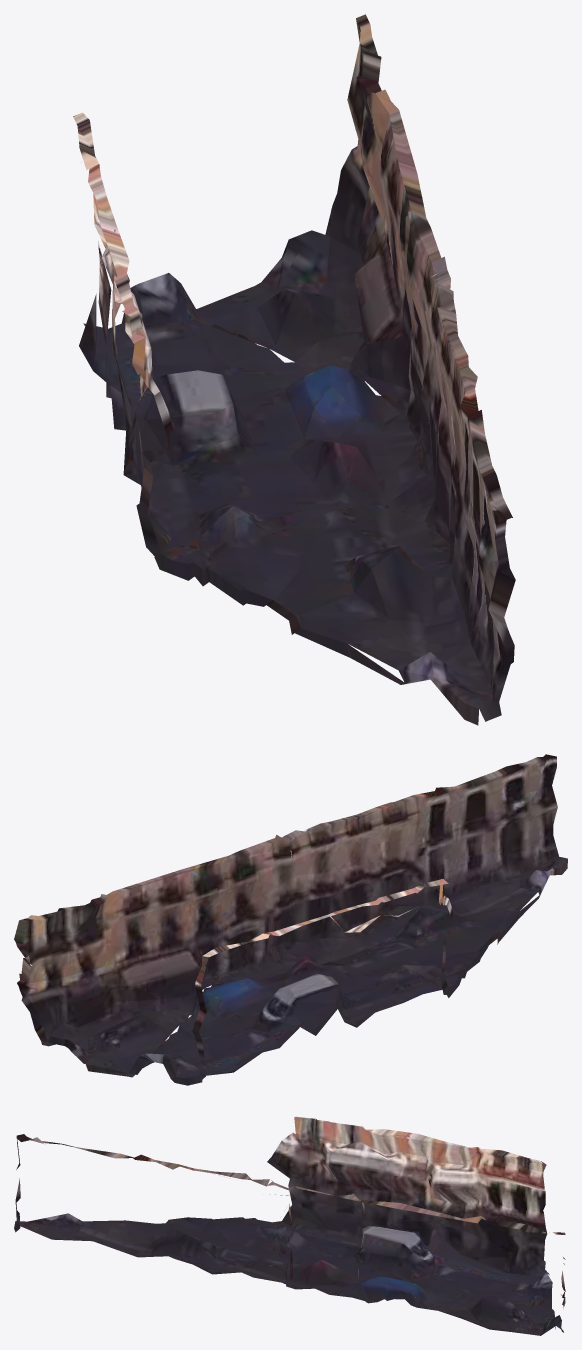
3 views of the same model, one above another, from view 1: azimuth 30°, elevation 25°; view 2: azimuth 150°, elevation 25°; view 3: azimuth 270°, elevation 25° (orthographic). The views are drawn at different scales.
Visible parts, largest first — view 1: Mesh_0; view 2: Mesh_0; view 3: Mesh_0.
Boxes of the visible parts, <box> form: Mesh_0: <box>73,14,515,725</box>; Mesh_0: <box>14,754,567,1085</box>; Mesh_0: <box>14,1116,565,1335</box>.
Size of the model in its own units: 21.76 by 10.31 by 40.89.
1 material, 1 textured.
